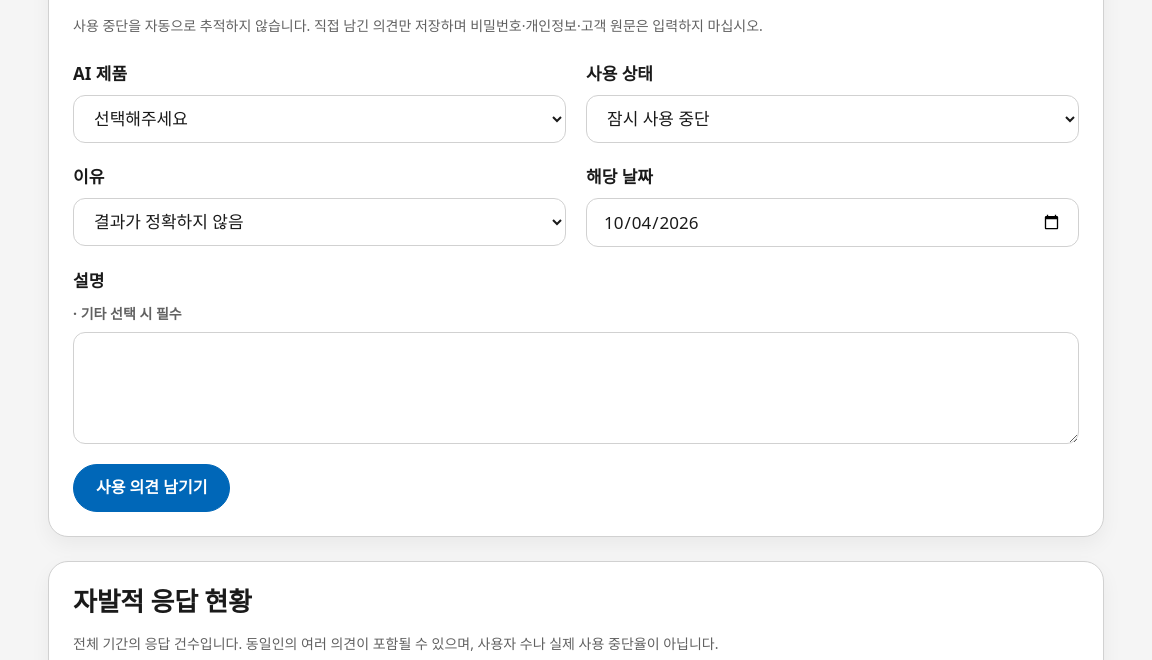
does not confirm/reset an empty successful response for record_nonuse
This screenshot has width=1152, height=660.
(page scrolled)
Type "처음 작성한 현장 근거" into the text box labelled "설명 · 기타 선택 시 필수" at {"x": 576, "y": 388}, box [73,332,1079,444]
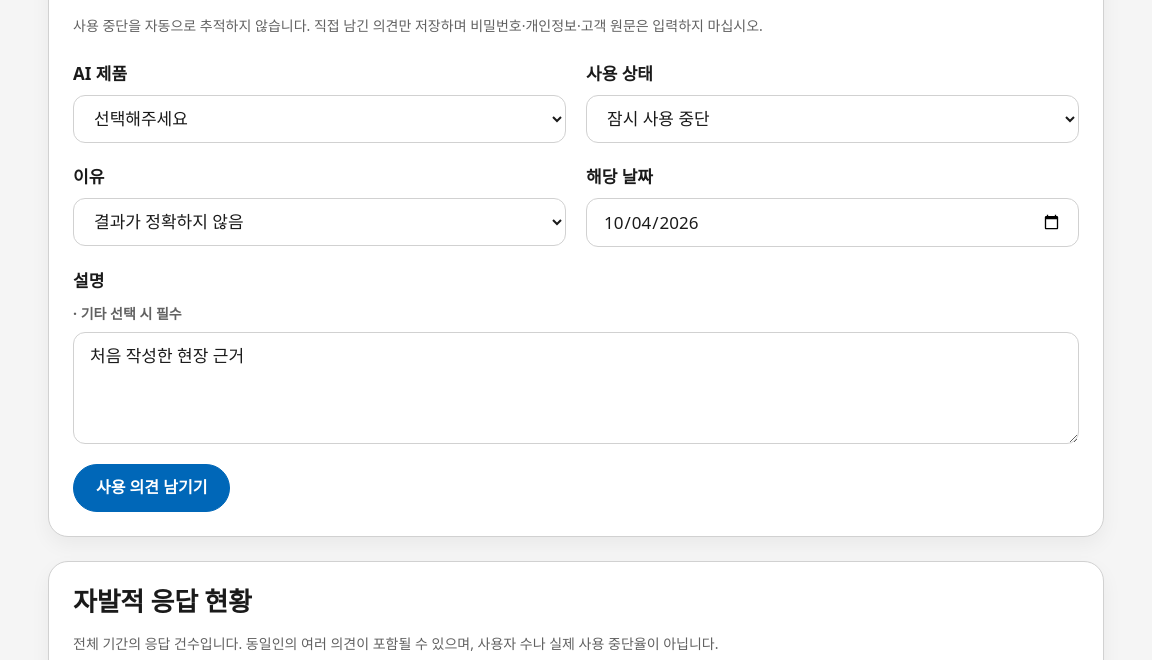
Select "기타" in the dropdown labelled "이유" at {"x": 320, "y": 222}, box [73,198,566,246]
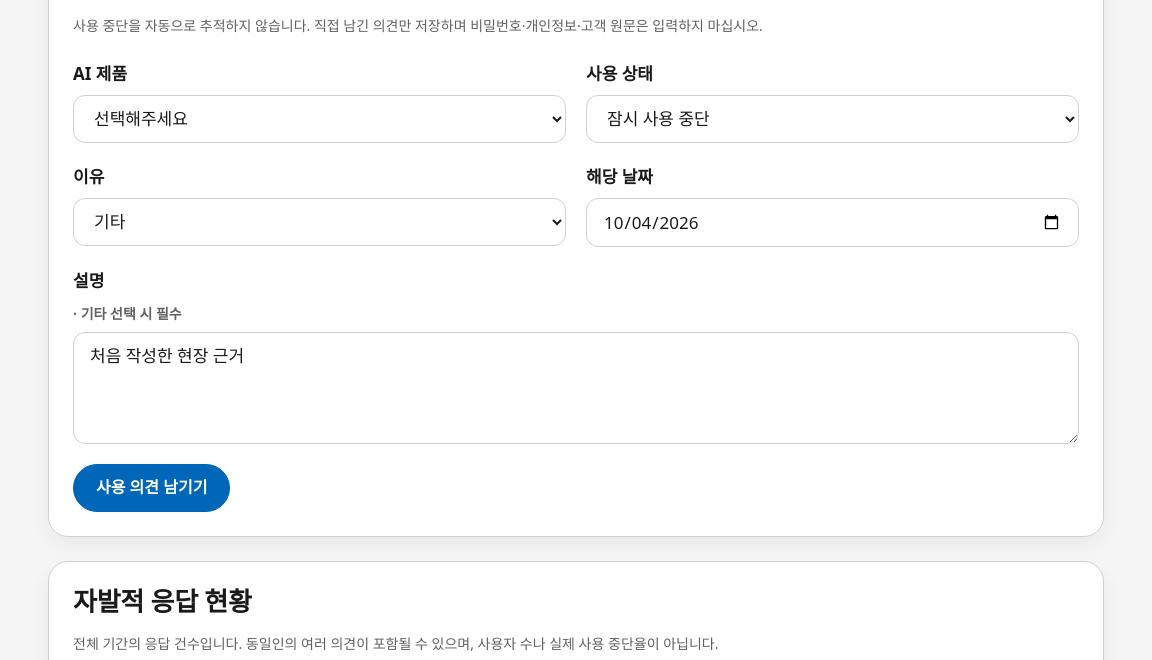
Select "제품 A" in the dropdown labelled "AI 제품" at {"x": 320, "y": 119}, box [73,95,566,143]
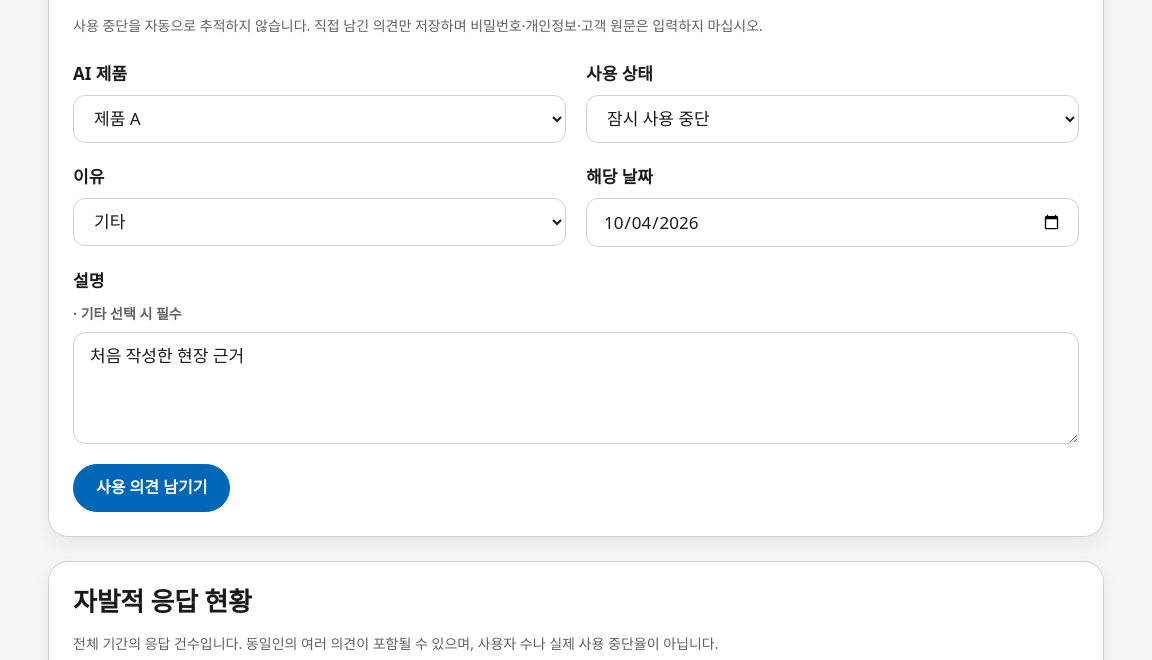
Type "2026-01-02" into the date field labelled "해당 날짜" at {"x": 832, "y": 223}, box [586,198,1079,247]
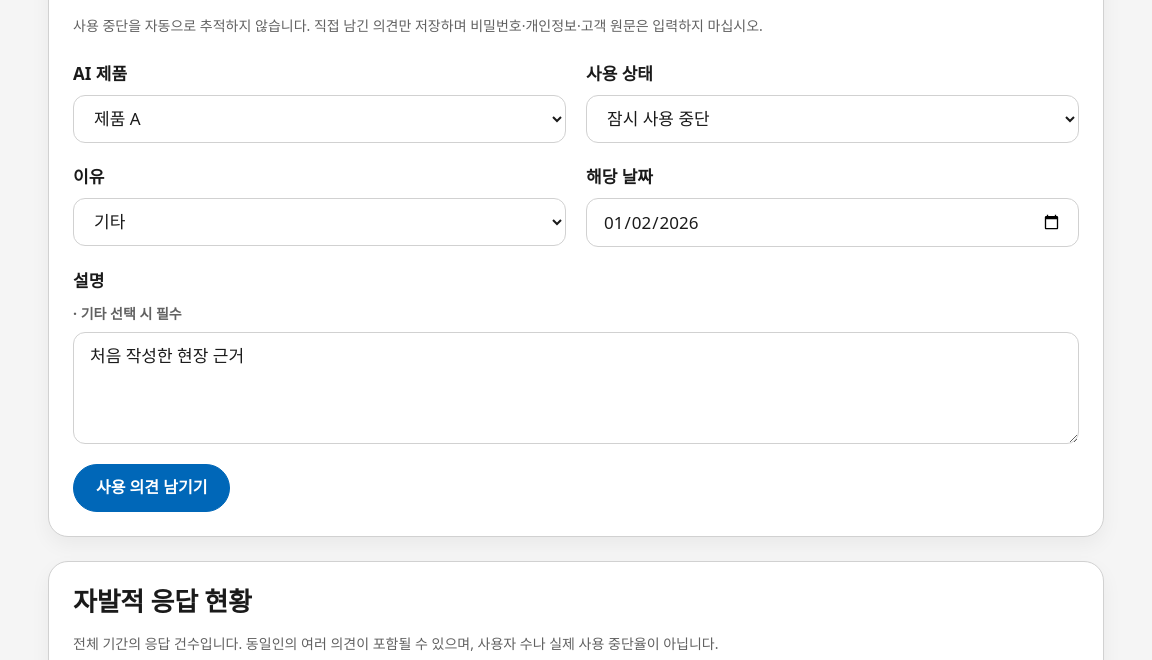
Submit the form "사용 의견 남기기", box [73,60,1079,512]
(page scrolled)
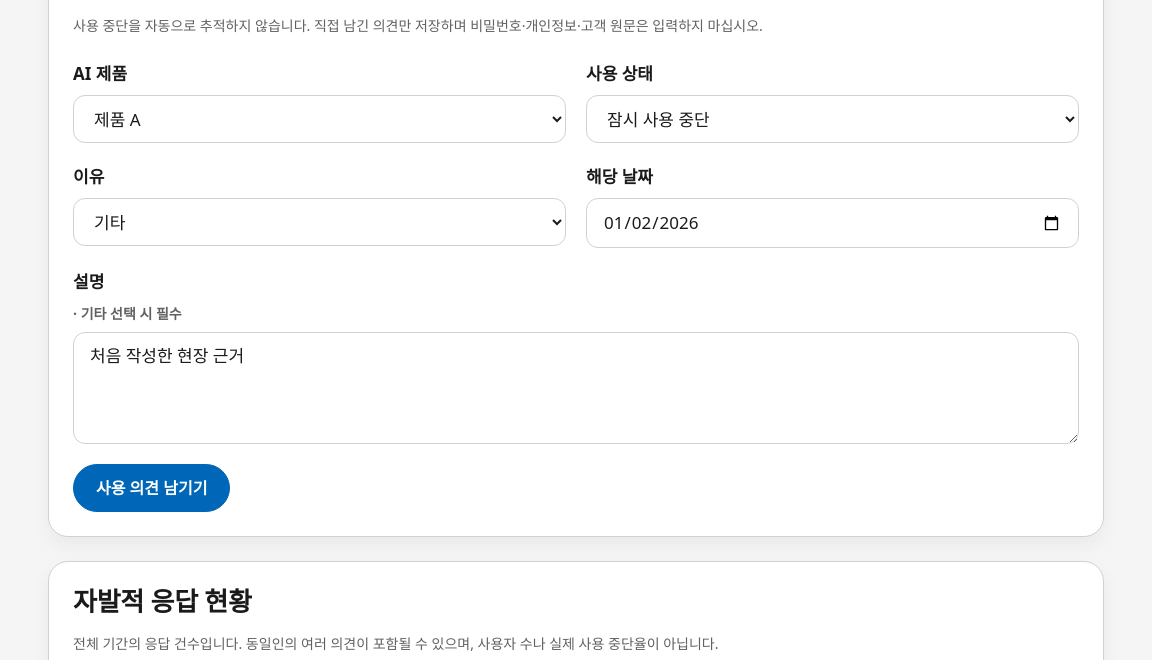
Expected: the text "기록을 저장했습니다." is not shown
Submit the form "사용 의견 남기기", box [73,60,1079,512]
(page scrolled)
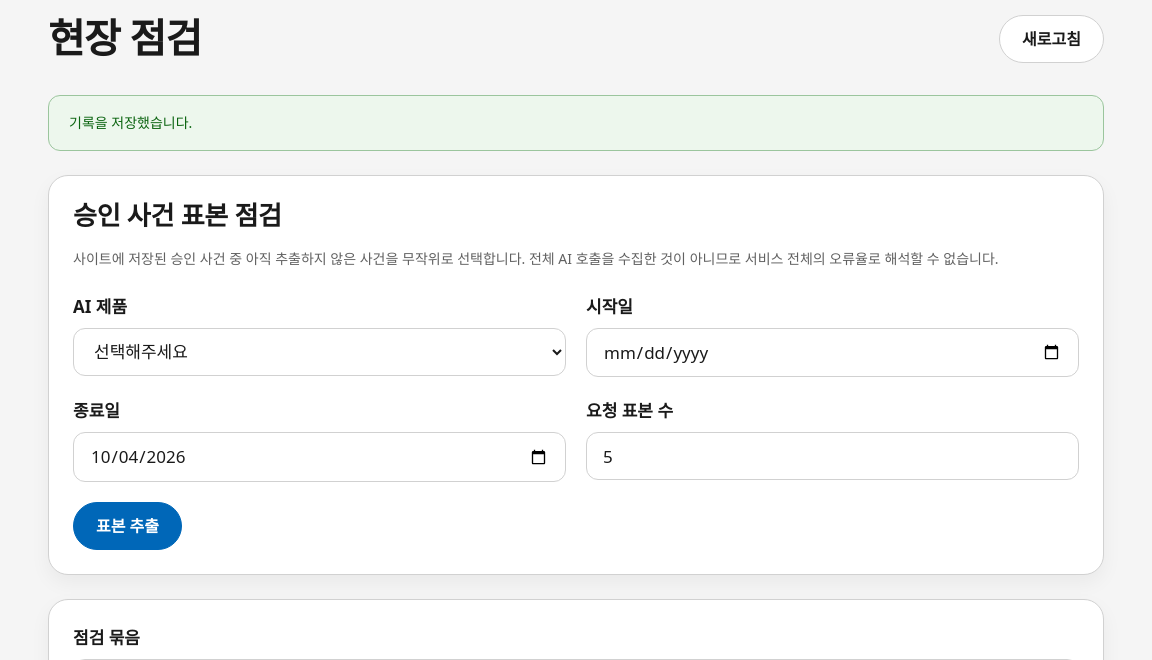
Now the text "기록을 저장했습니다." is shown, box [48,95,1104,151]
